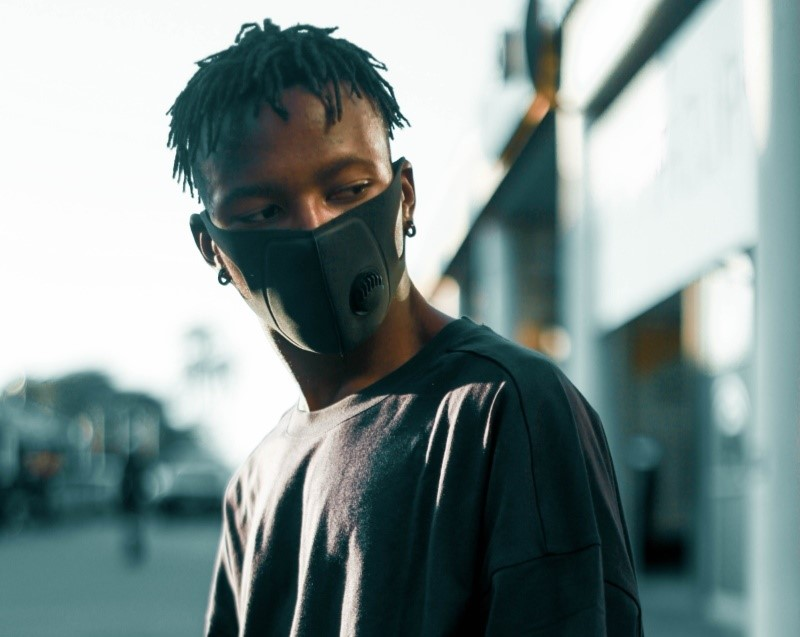face_with_mask: (183, 59, 419, 358)
